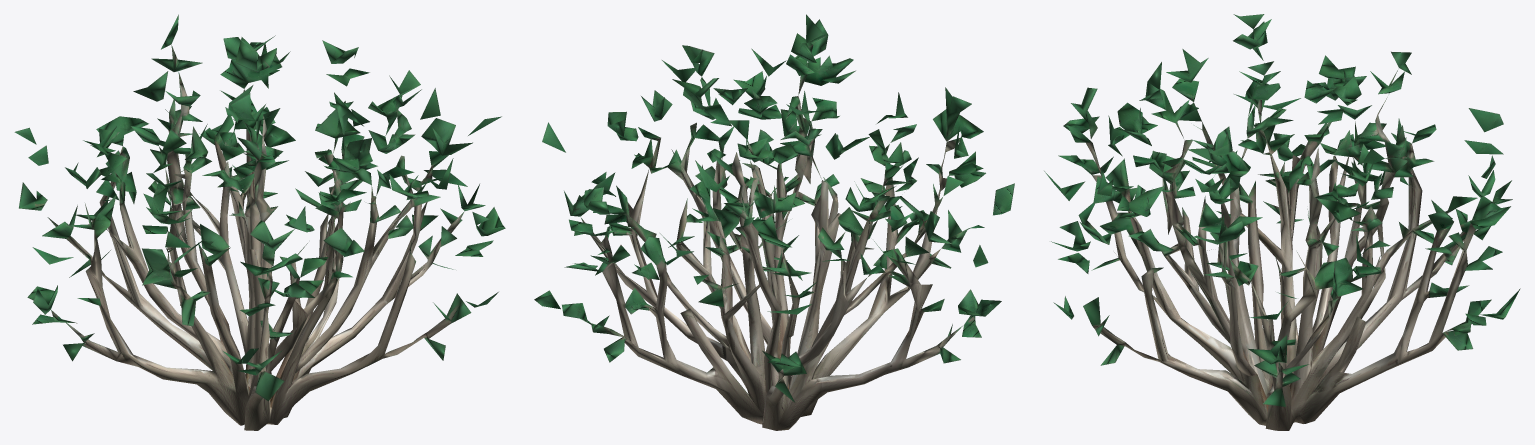
3 views of the same model, side by side, from view 1: azimuth 30°, elevation 25°; view 2: azimuth 150°, elevation 25°; view 3: azimuth 270°, elevation 25° (orthographic). The views are drawn at different scales.
Parts seen in each view (by area): view 1: Mesh_0; view 2: Mesh_0; view 3: Mesh_0.
Part boxes in pixels (box(x1,y1,x2,y2)): Mesh_0: box(14, 14, 505, 430); Mesh_0: box(534, 14, 1014, 430); Mesh_0: box(1044, 14, 1520, 430).
Bounding box in the file's own units: 1.87 × 1.56 × 1.65.
1 material, 1 textured.
